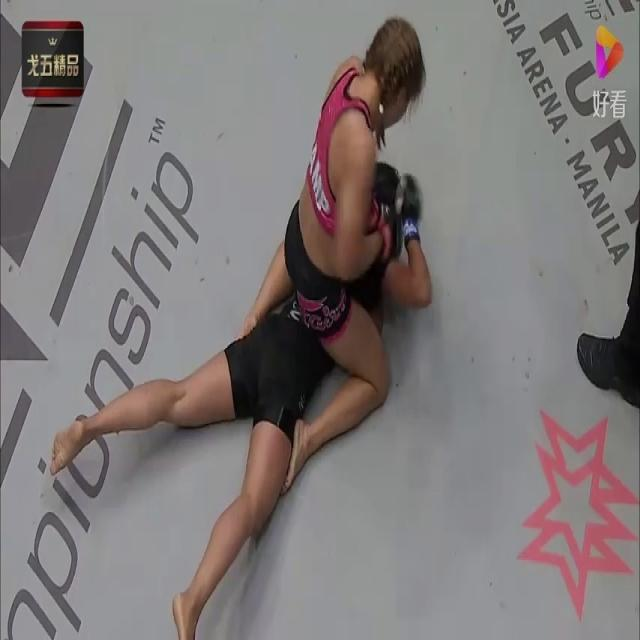fight: (49, 157, 435, 640), (232, 14, 428, 500)
